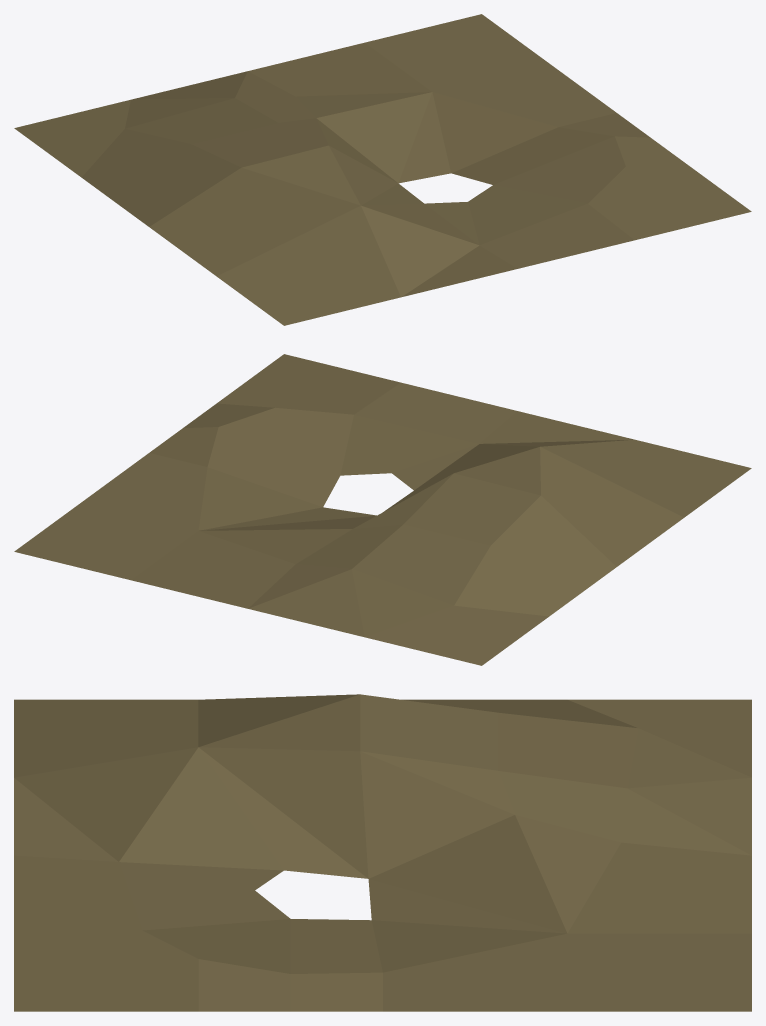
Rendered from FloorHole02.fbx.
The picture shows the model from 3 angles, top to bottom: view 1: azimuth 30°, elevation 25°; view 2: azimuth 150°, elevation 25°; view 3: azimuth 270°, elevation 25°; orthographic projection. The views are drawn at different scales.
Parts seen in each view (by area): view 1: FloorHole02; view 2: FloorHole02; view 3: FloorHole02.
Boxes of the visible parts, x1,y1,x2,y2 form: FloorHole02: (14,14,751,325); FloorHole02: (14,354,751,665); FloorHole02: (14,694,751,1011).
Size of the model in its own units: 2032 by 257 by 2032.
